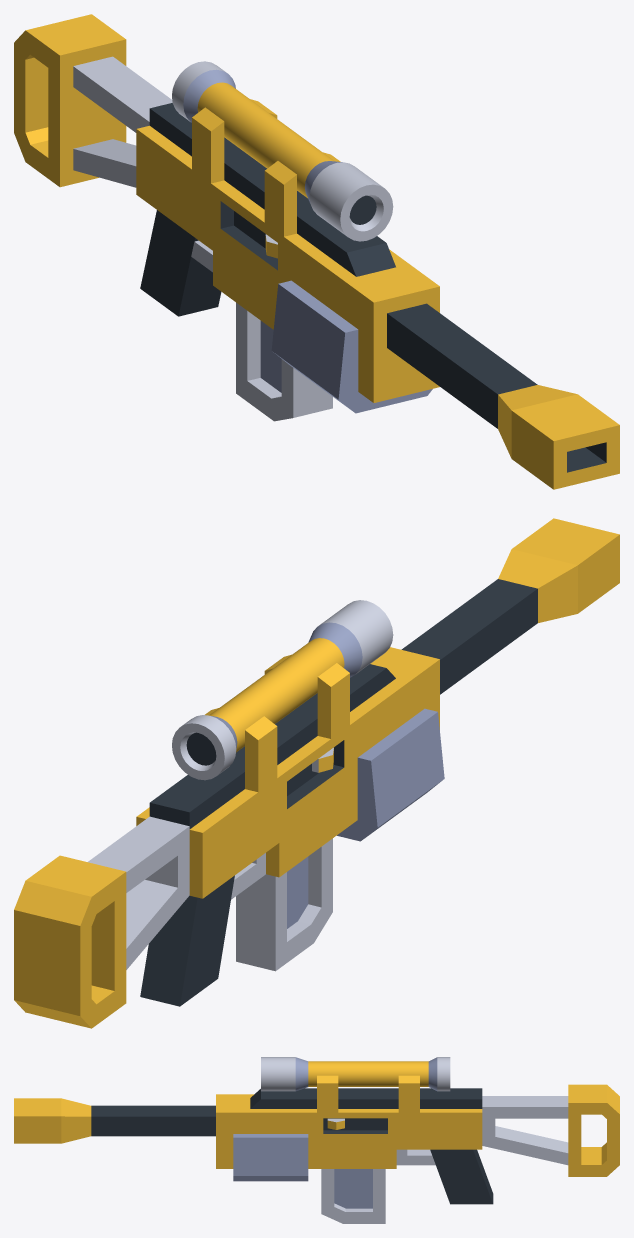
The model's file is blasterE.glb.
3 renders of one model, top to bottom at view 1: azimuth 30°, elevation 25°; view 2: azimuth 150°, elevation 25°; view 3: azimuth 270°, elevation 25°, orthographic. The views are drawn at different scales.
Visible parts, largest first — view 1: blasterE; view 2: blasterE; view 3: blasterE.
Boxes of the visible parts, left/top/right/bottom form: blasterE: left=14, top=14, right=619, bottom=489; blasterE: left=14, top=518, right=619, bottom=1028; blasterE: left=14, top=1057, right=619, bottom=1223.
Size of the model in its own units: 0.16 by 0.41 by 1.41.
